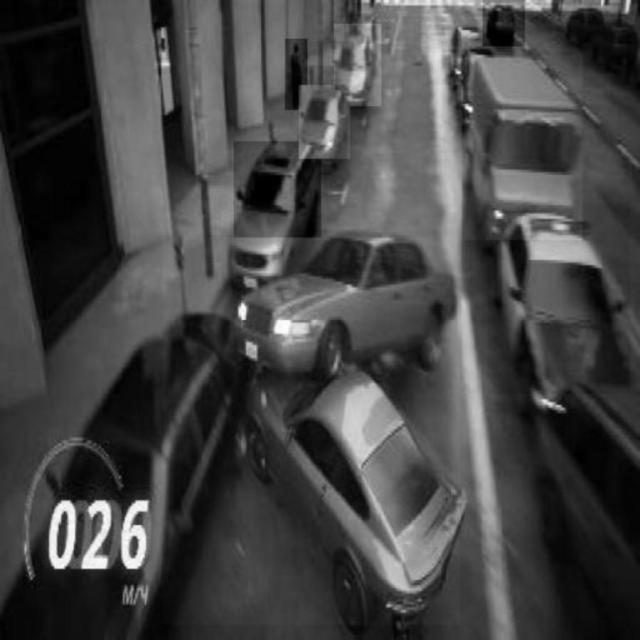accident: (163, 237, 460, 625)
person: (286, 39, 308, 110)
vehicle: (488, 203, 630, 393), (465, 55, 583, 240), (234, 141, 322, 281), (334, 23, 381, 105), (299, 85, 350, 158), (482, 1, 526, 47)
